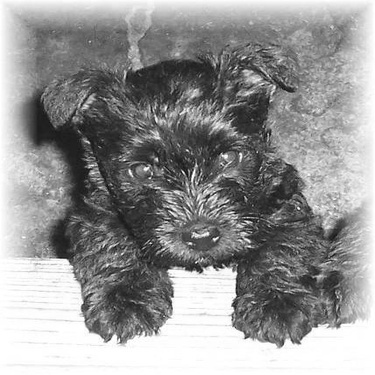dog: (17, 34, 328, 354), (311, 186, 370, 335)
